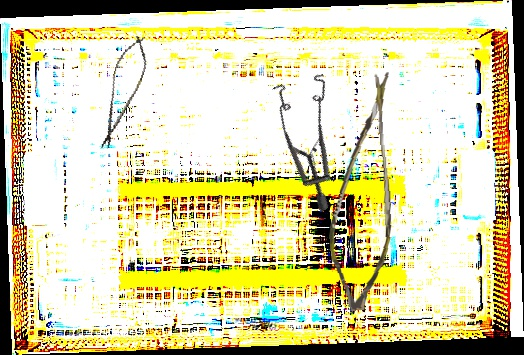Micro Scissor: (315, 71, 410, 313), (91, 31, 155, 154)
Speculum: (241, 58, 391, 213)
